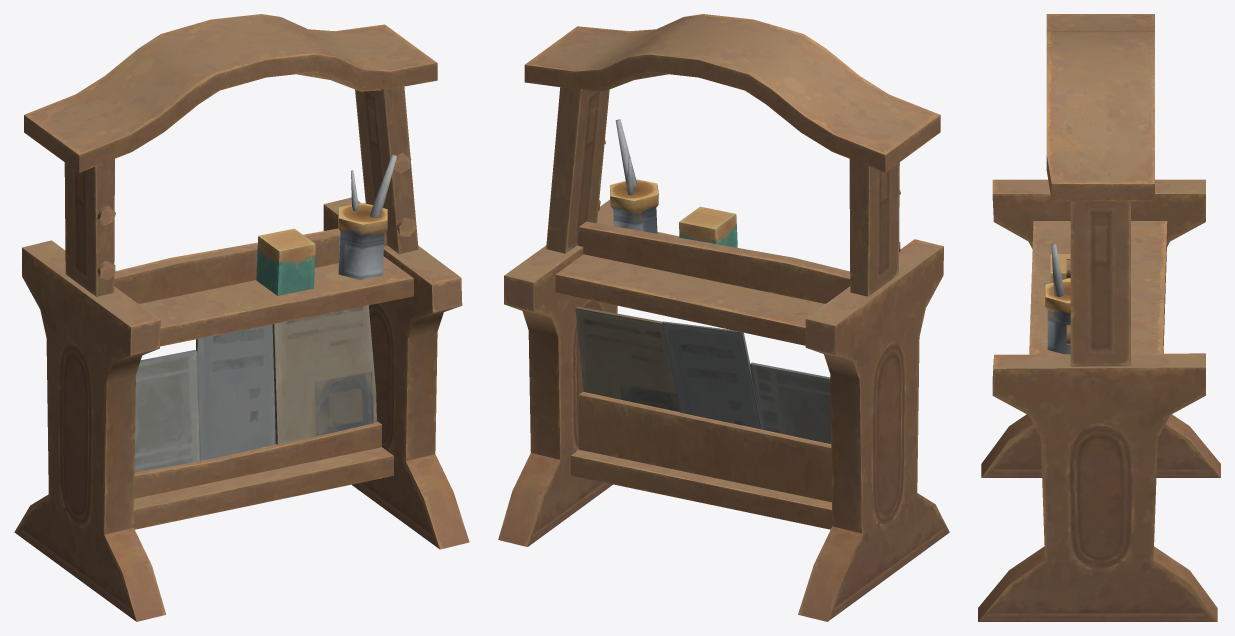
Rendered from Homeworld_Interior_Fd_Cabinet_Prop_YijiZhiwu_01_Vo.fbx.
3 renders of one model, left to right at view 1: azimuth 30°, elevation 25°; view 2: azimuth 150°, elevation 25°; view 3: azimuth 270°, elevation 25°, orthographic. The views are drawn at different scales.
Visible parts, largest first — view 1: Area_Fd_Prop_FKY_Yiji_02_Vo; view 2: Area_Fd_Prop_FKY_Yiji_02_Vo; view 3: Area_Fd_Prop_FKY_Yiji_02_Vo.
Part boxes in pixels (box(x1,y1,x2,y2)): Area_Fd_Prop_FKY_Yiji_02_Vo: box(14, 14, 469, 621); Area_Fd_Prop_FKY_Yiji_02_Vo: box(498, 14, 949, 621); Area_Fd_Prop_FKY_Yiji_02_Vo: box(978, 14, 1220, 621).
Size of the model in its own units: 1.37 by 1.8 by 0.8147.
Materials: 1 (1 with a texture image).
